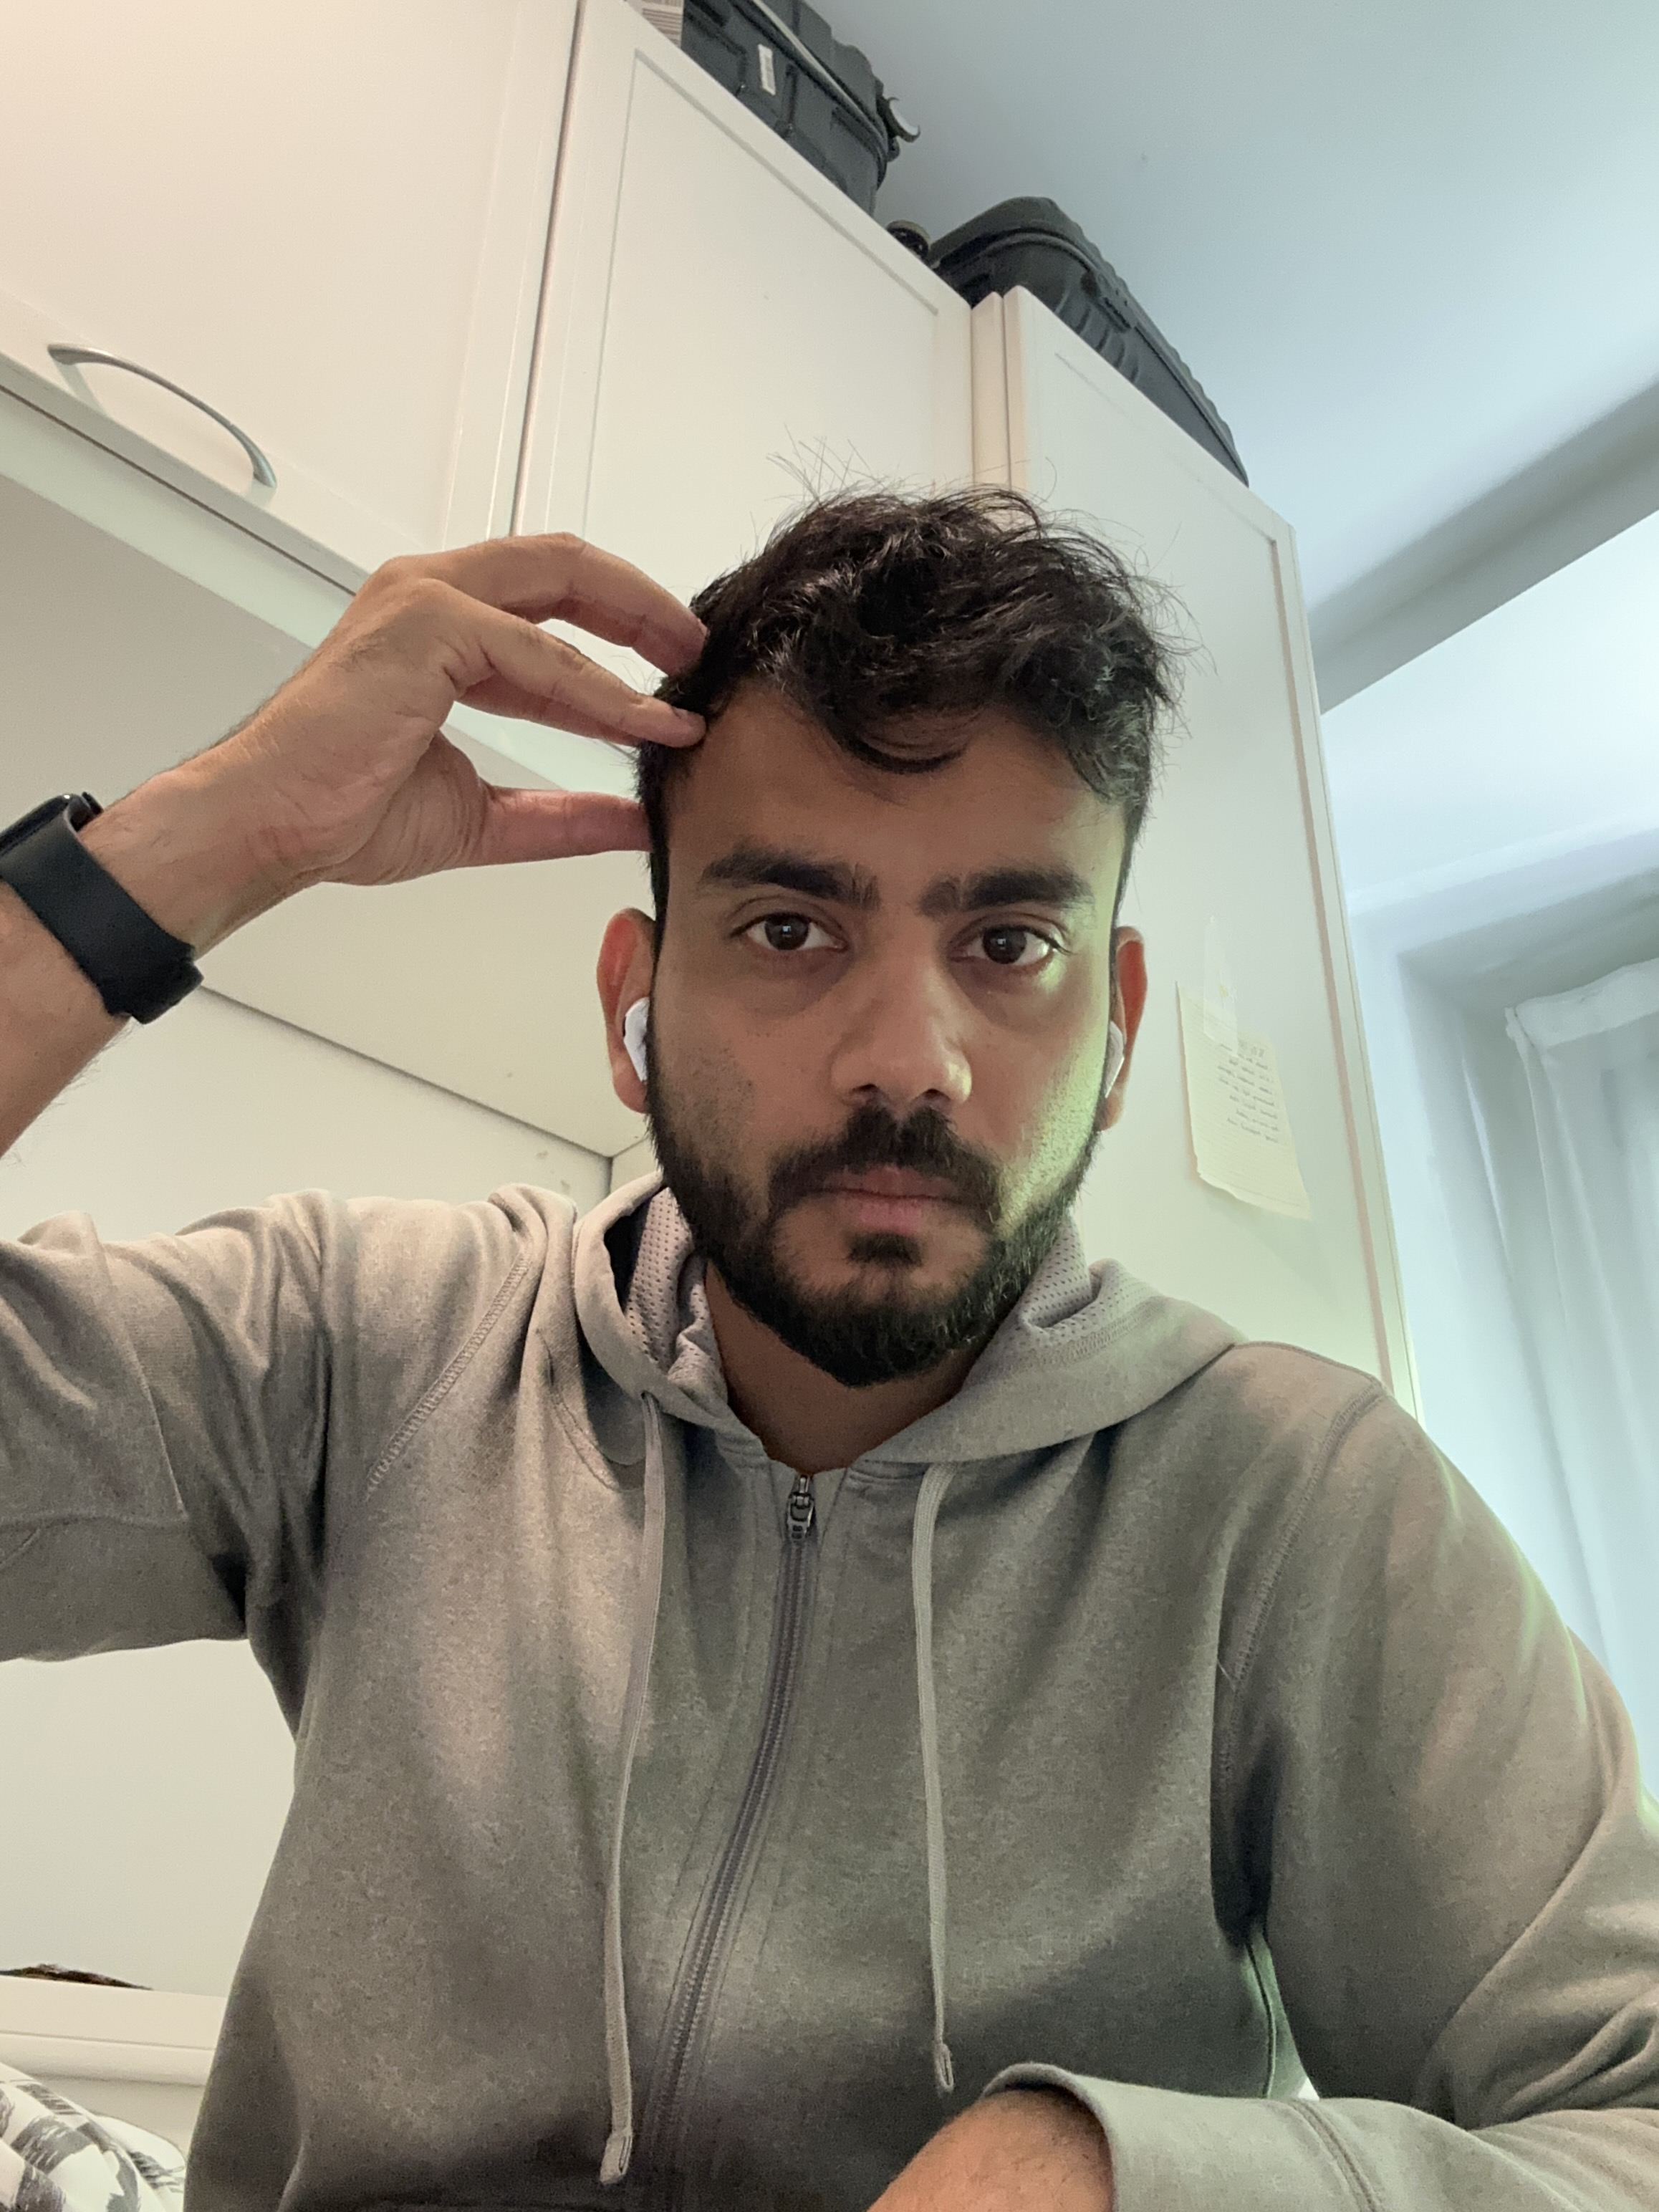brain: (5, 469, 1650, 2202), (613, 469, 1202, 1393)
